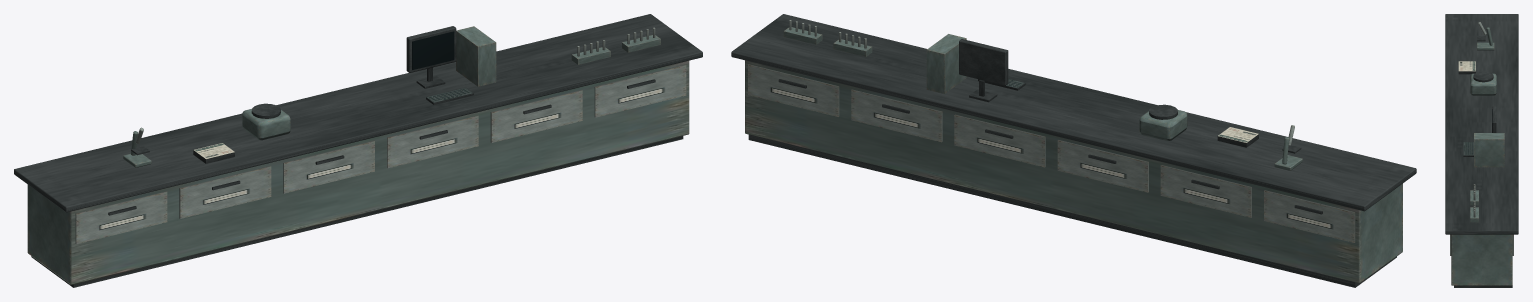
The model's file is lab_bench.glb.
The picture shows the model from 3 angles, left to right: view 1: azimuth 30°, elevation 25°; view 2: azimuth 150°, elevation 25°; view 3: azimuth 270°, elevation 25°; orthographic projection. The views are drawn at different scales.
Parts seen in each view (by area): view 1: LabBench; view 2: LabBench; view 3: LabBench.
Boxes of the visible parts, x1,y1,x2,y2 form: LabBench: [14, 14, 702, 287]; LabBench: [731, 14, 1416, 287]; LabBench: [1445, 14, 1518, 287].
Size of the model in its own units: 7 by 1.47 by 1.
2 materials, 1 textured.
